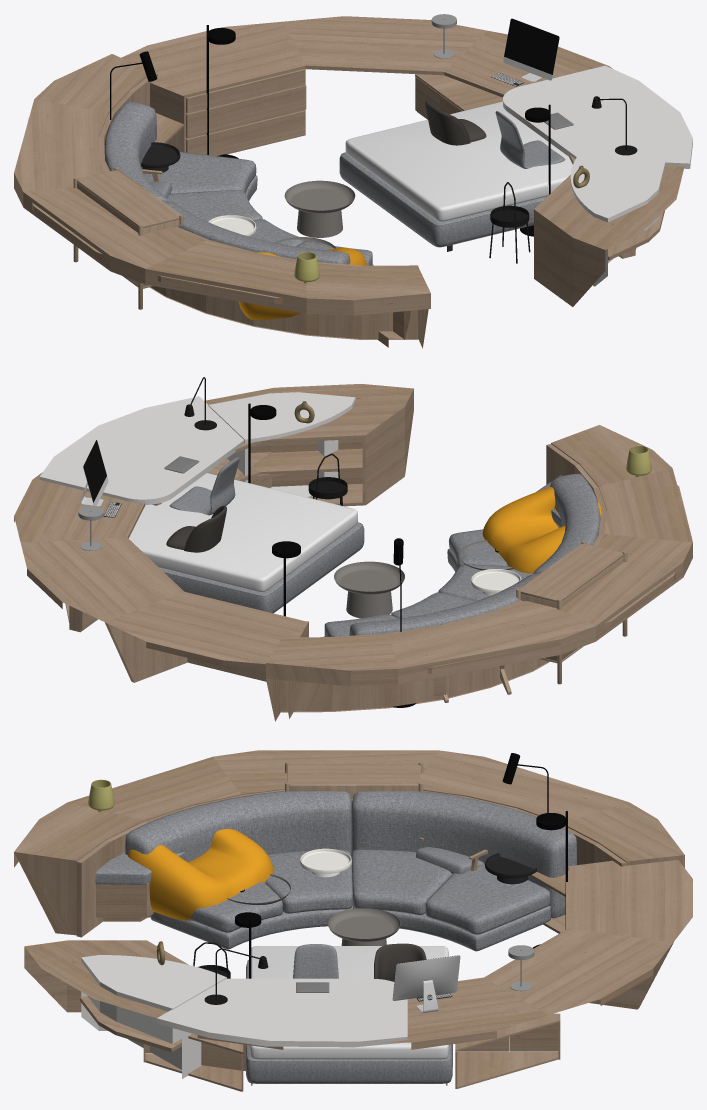
Rendered from furniture-studio-draco.glb.
3 renders of one model, top to bottom at view 1: azimuth 30°, elevation 25°; view 2: azimuth 150°, elevation 25°; view 3: azimuth 270°, elevation 25°, orthographic. The views are drawn at different scales.
Visible parts, largest first — view 1: live, work, sleep, work-back-door; view 2: live, work, sleep, work-back-door; view 3: live, work, sleep, work-back-door.
Boxes of the visible parts, x1,y1,x2,y2 form: live: [14, 25, 692, 348]; work: [28, 14, 684, 347]; sleep: [73, 51, 636, 320]; work-back-door: [151, 22, 319, 282]; live: [39, 377, 692, 721]; work: [14, 384, 691, 699]; sleep: [65, 452, 627, 707]; work-back-door: [105, 446, 651, 718]; live: [14, 750, 684, 1078]; work: [24, 779, 692, 1071]; sleep: [127, 753, 560, 1091]; work-back-door: [88, 780, 673, 1008].
Bounding box in the file's own units: 6.28 × 1.54 × 6.18.
Materials: 42 (9 with a texture image).
